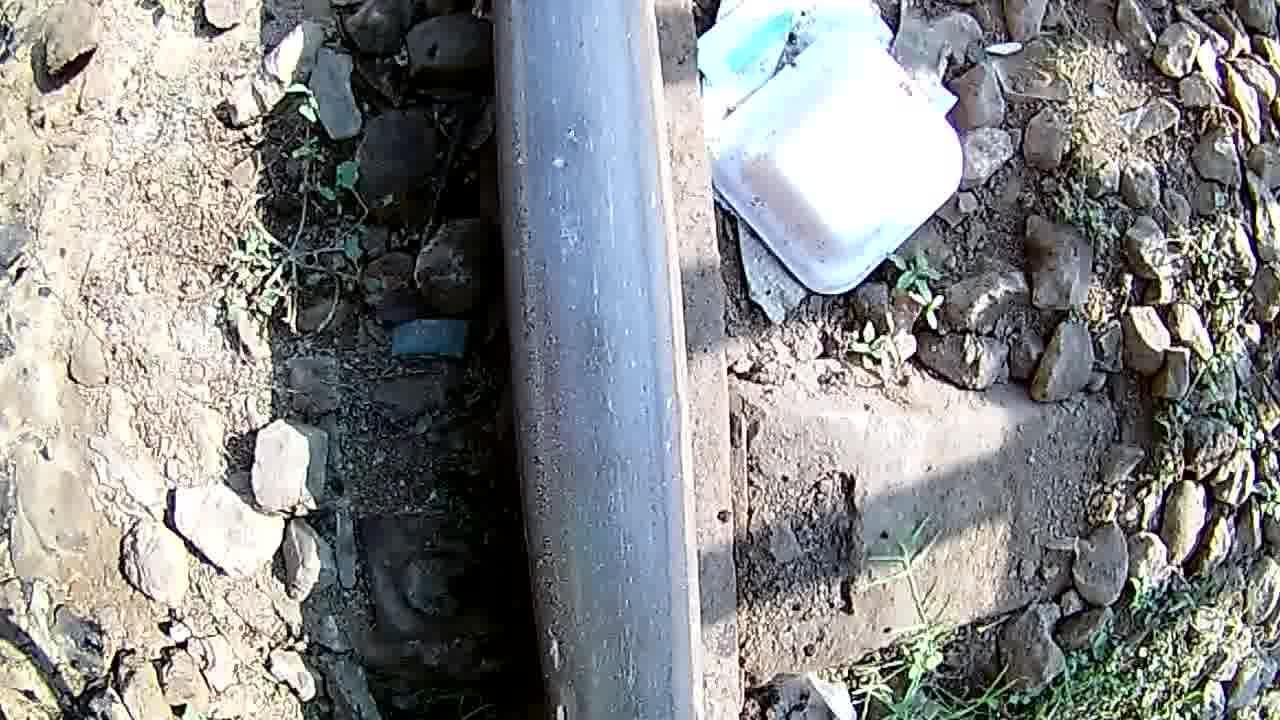crack: (484, 0, 709, 720)
